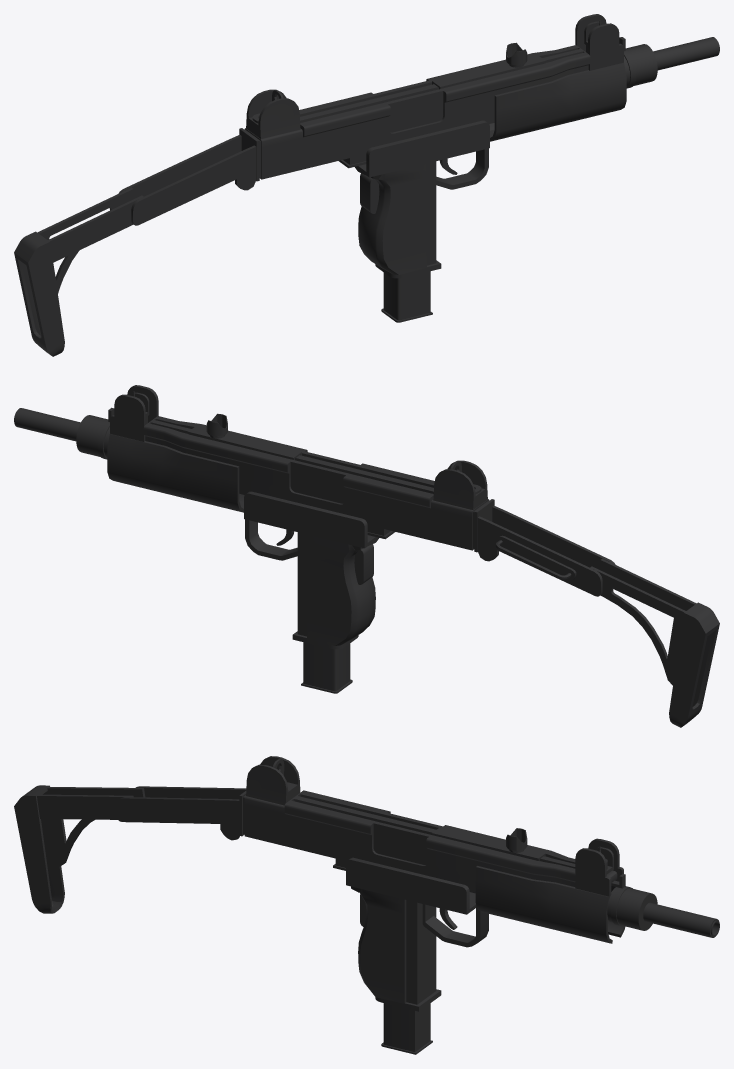
File: UZI_Mesh.fbx
3 views of the same model, one above another, from view 1: azimuth 30°, elevation 25°; view 2: azimuth 150°, elevation 25°; view 3: azimuth 330°, elevation 25° (orthographic).
Parts seen in each view (by area): view 1: UZI; view 2: UZI; view 3: UZI.
Part boxes in pixels (bbox=[...]): UZI: bbox=[14, 14, 719, 356]; UZI: bbox=[14, 385, 719, 727]; UZI: bbox=[14, 756, 719, 1054].
Bounding box in the file's own units: 0.5126 × 0.1781 × 0.0357.
